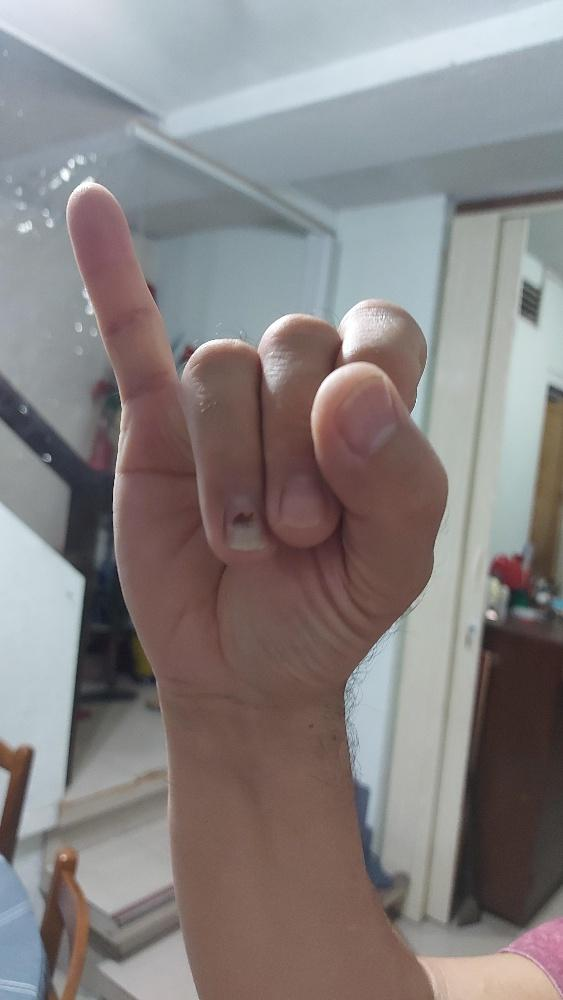i: (65, 180, 448, 694)
